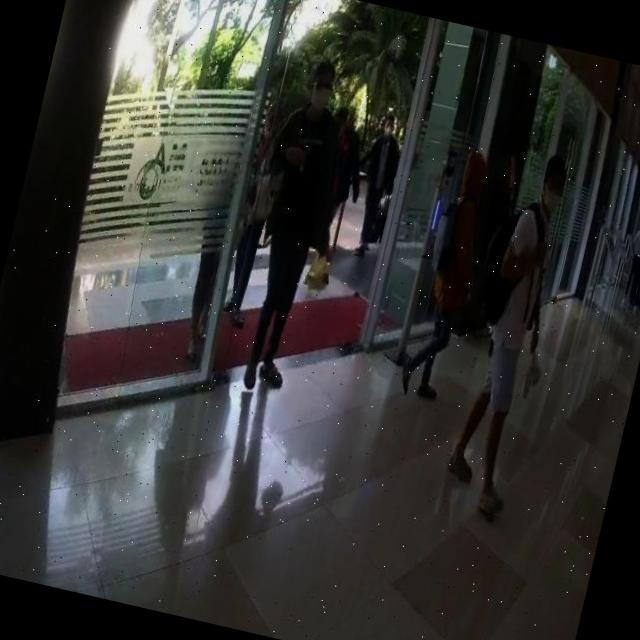person: (438, 145, 586, 526), (218, 58, 354, 395), (398, 144, 501, 406), (302, 106, 371, 293), (346, 107, 409, 258)
